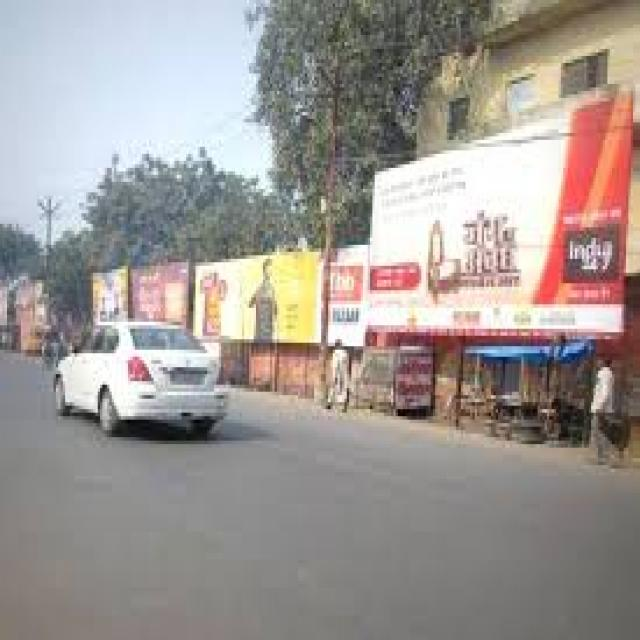Werbetafel frei: (371, 131, 624, 330), (194, 252, 323, 341), (330, 248, 366, 344), (132, 266, 188, 326), (92, 270, 129, 322)
